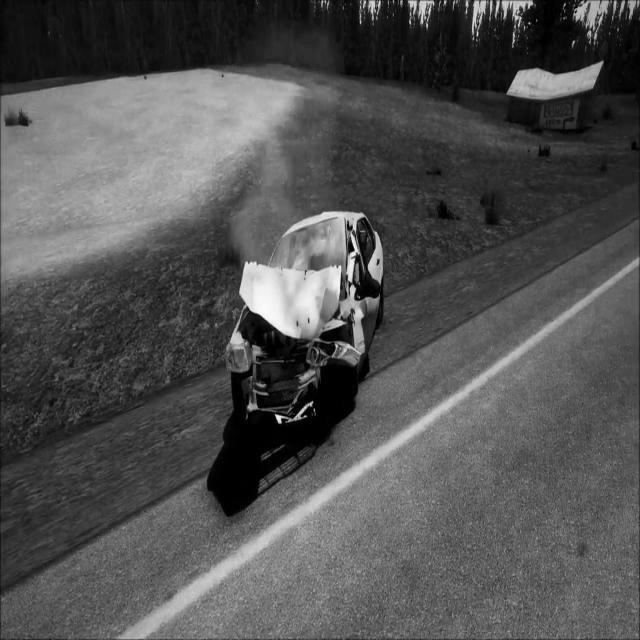severe: (205, 206, 388, 520)
